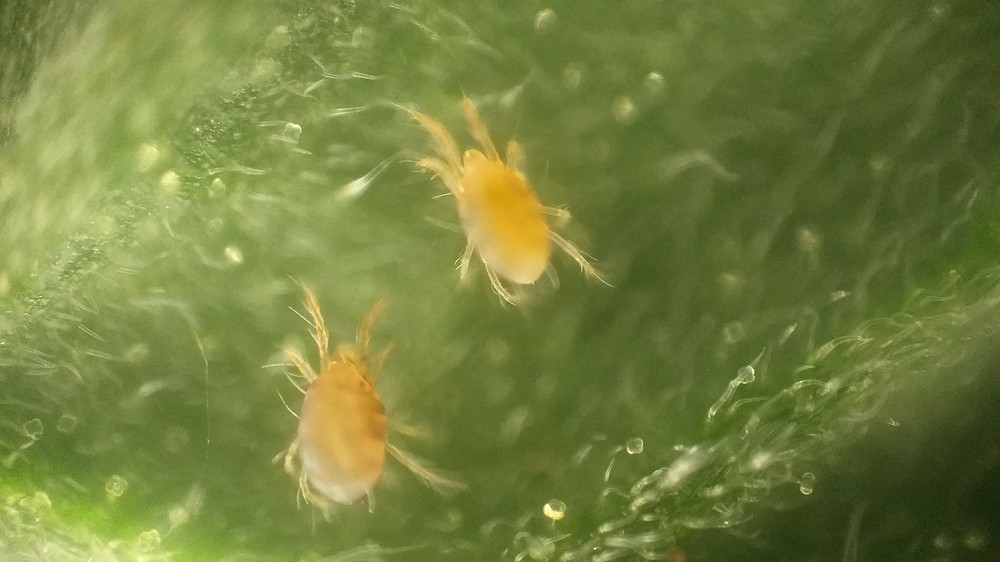Aracnido Rojo: (391, 86, 618, 309), (269, 280, 471, 517)
